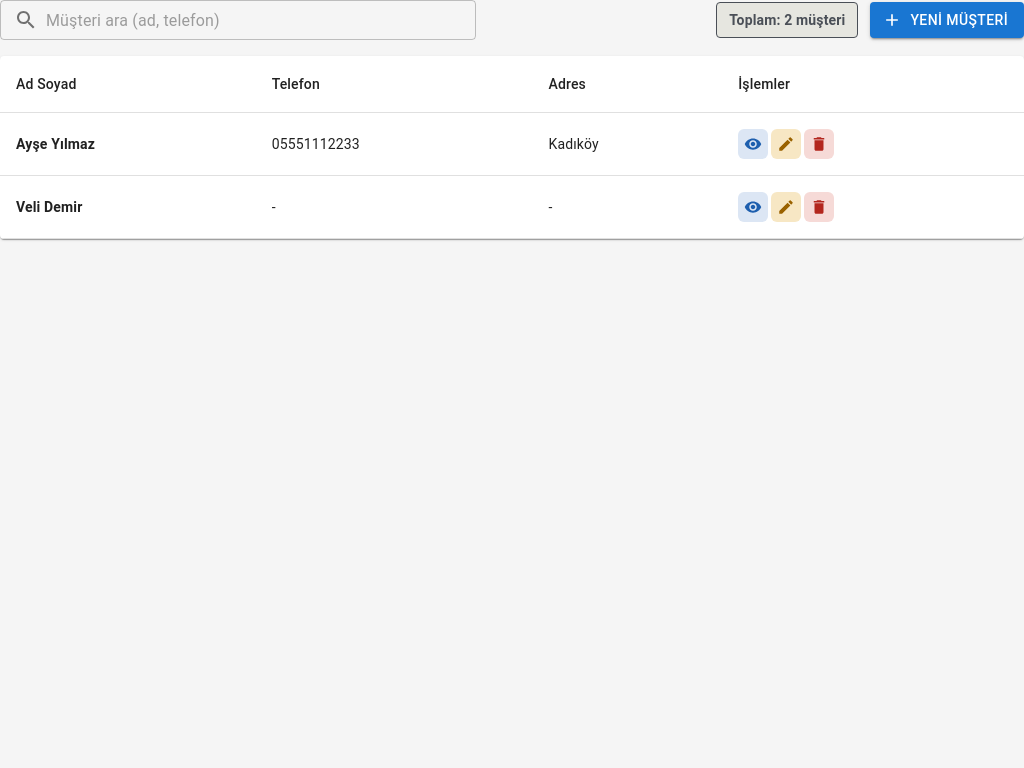
Müşteriler: ekleme, düzenleme, silme › "Yeni Müşteri": boş form; "Kaydet" create çağırır, pencere kapanır, liste yenilenir
Expected: the text "Ayşe Yılmaz" is shown, left=0, top=112, right=256, bottom=176
Step 1. Click the button "Yeni Müşteri" → (947, 20), box left=870, top=2, right=1023, bottom=38
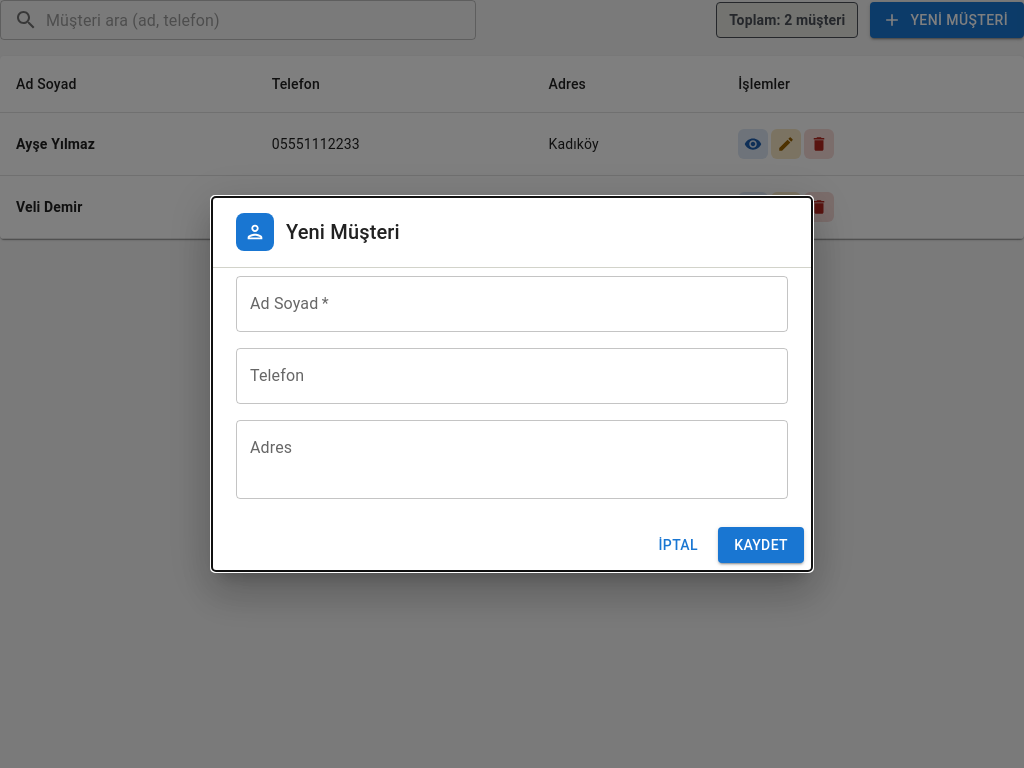
Result: the text "Yeni Müşteri" is shown at left=286, top=220, right=400, bottom=244
Result: the field labelled "Ad Soyad *" is empty
Step 2. Type "Zeynep Kaya" into the field labelled "Ad Soyad *" → (512, 304), box left=236, top=276, right=788, bottom=332
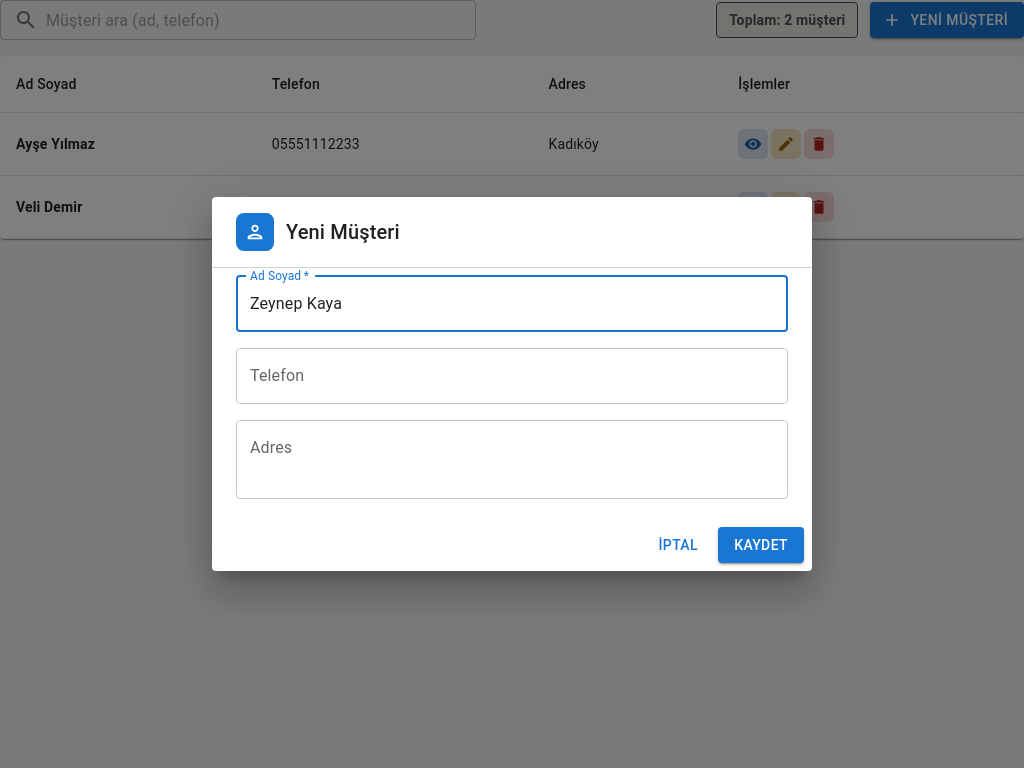
Step 3. Type "05320000000" into the field labelled "Telefon" → (512, 376), box left=236, top=348, right=788, bottom=404
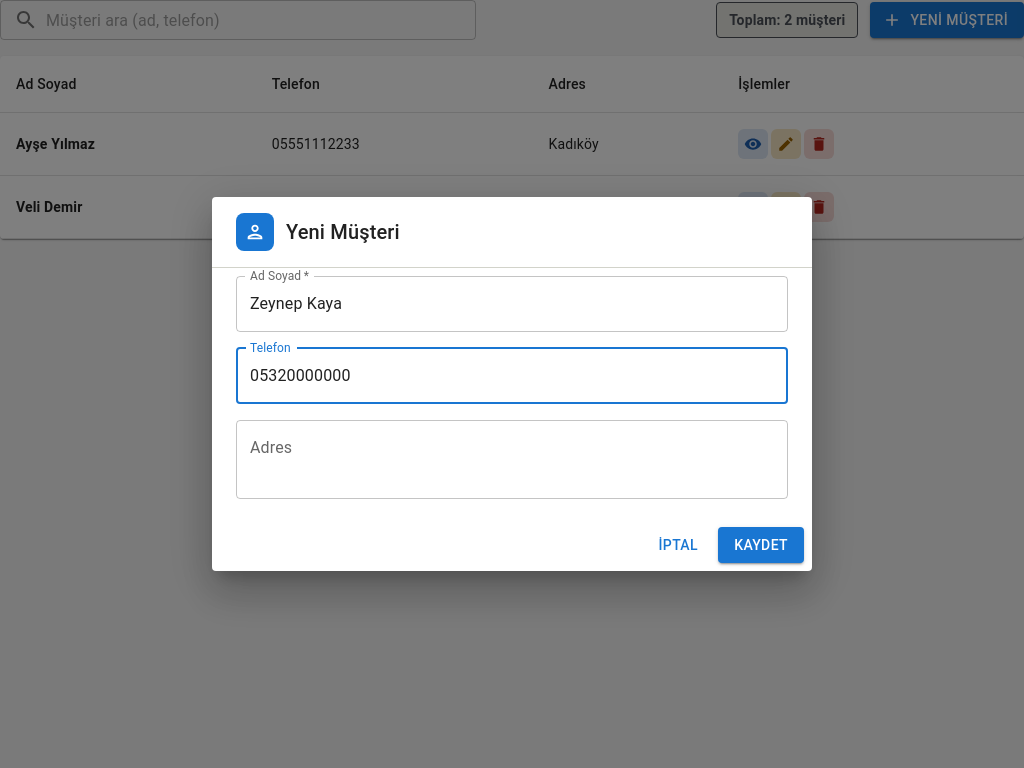
Step 4. Type "Üsküdar" into the text box labelled "Adres" → (512, 459), box left=250, top=436, right=774, bottom=482
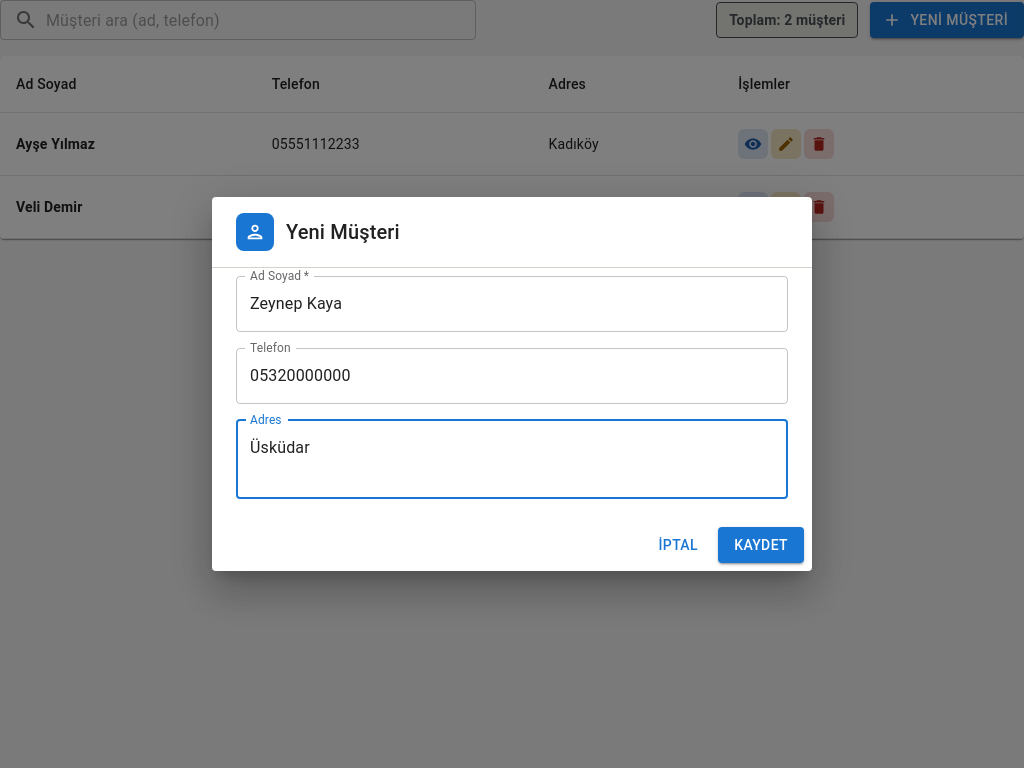
Step 5. Click the button "Kaydet" → (761, 545), box left=718, top=527, right=804, bottom=563
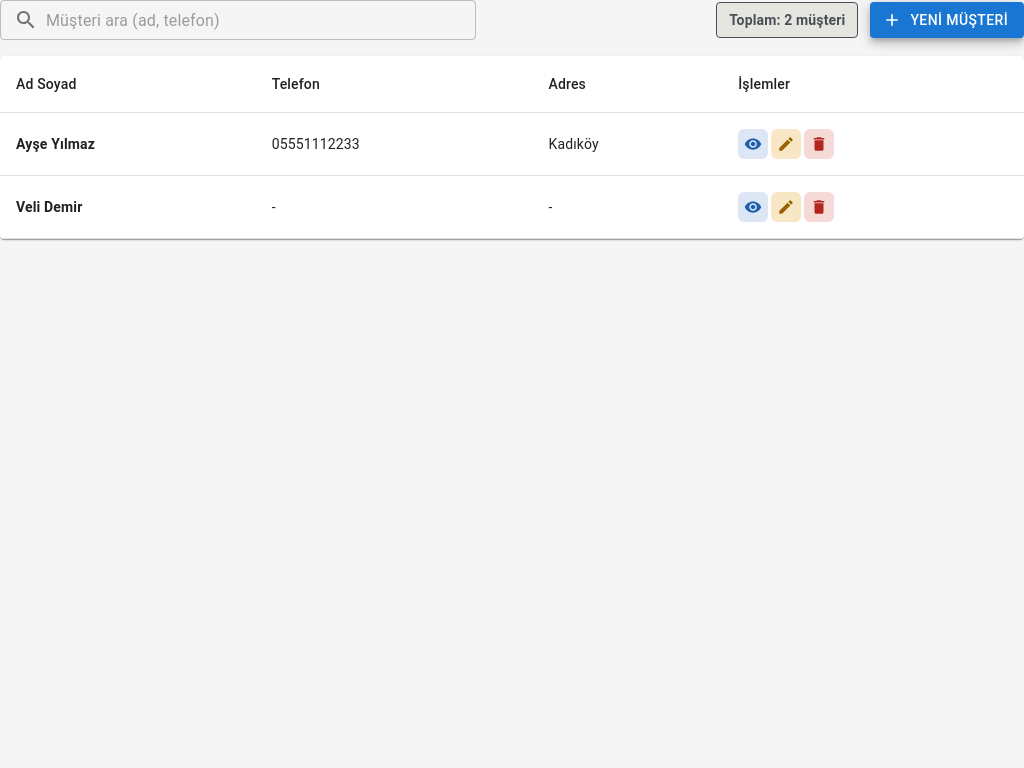
Result: the dialog is gone
